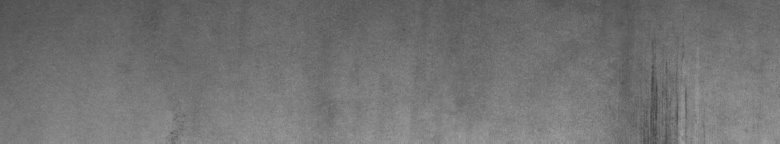ka: (642, 56, 688, 136)
